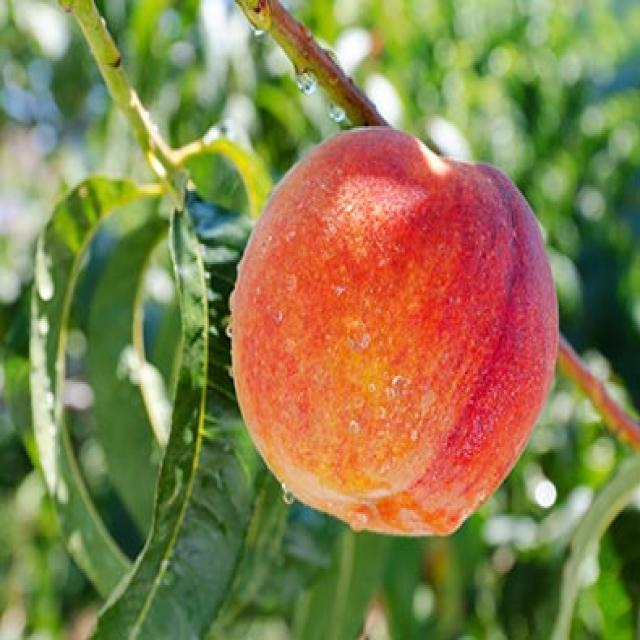peach: (224, 122, 562, 544)
